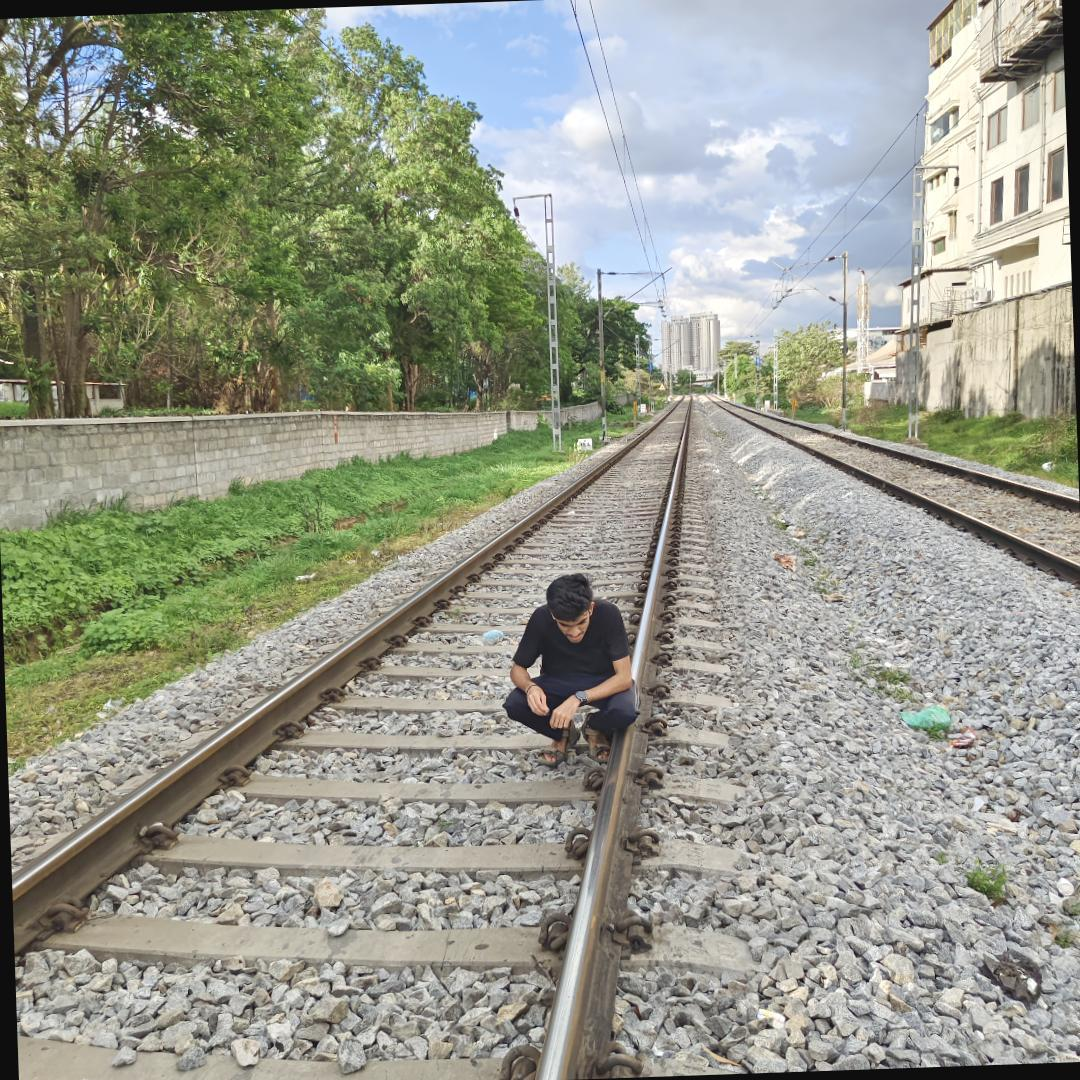sitting: (486, 562, 658, 768)
